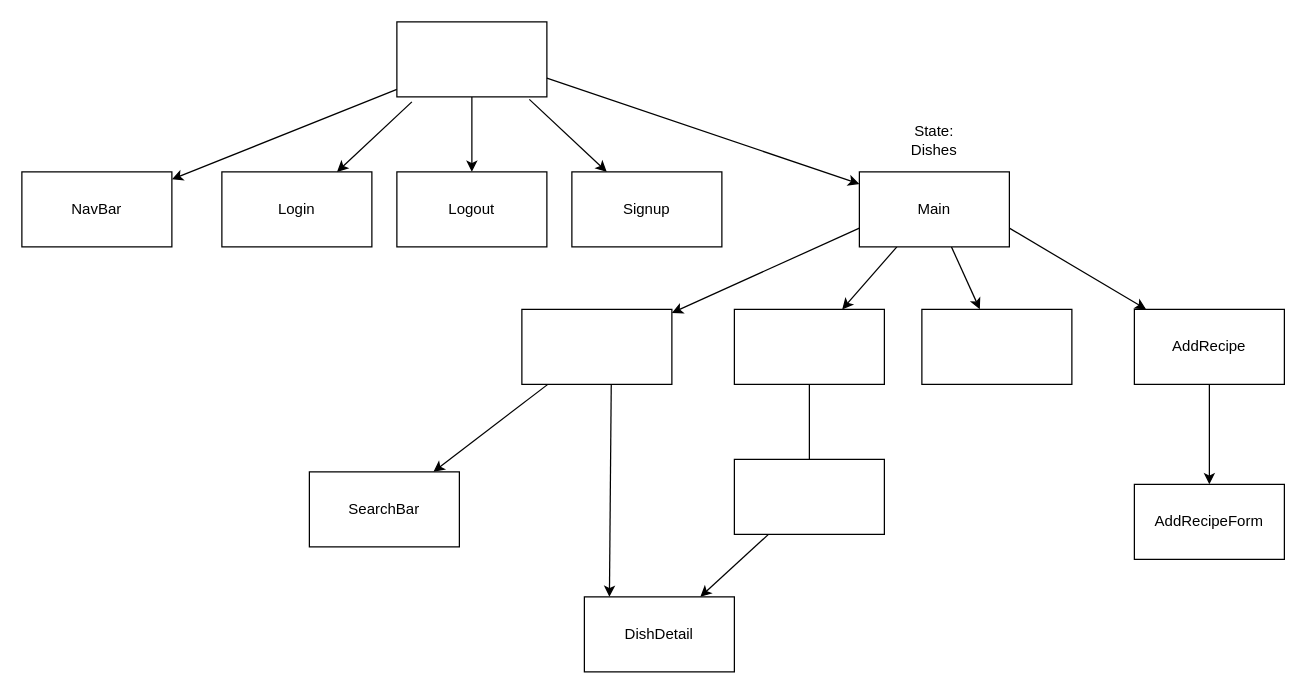
Some shapes in this 1306 by 694 pixel diagram are drawn without their labels. The box of each missing label's shape, as (x1, y1, x2, y2) in pixels:
App: (396, 21, 547, 97)
CollectionDetail: (733, 458, 884, 534)
Collections: (733, 308, 884, 384)
Home: (521, 308, 672, 384)
ShoppingList: (921, 308, 1072, 384)
